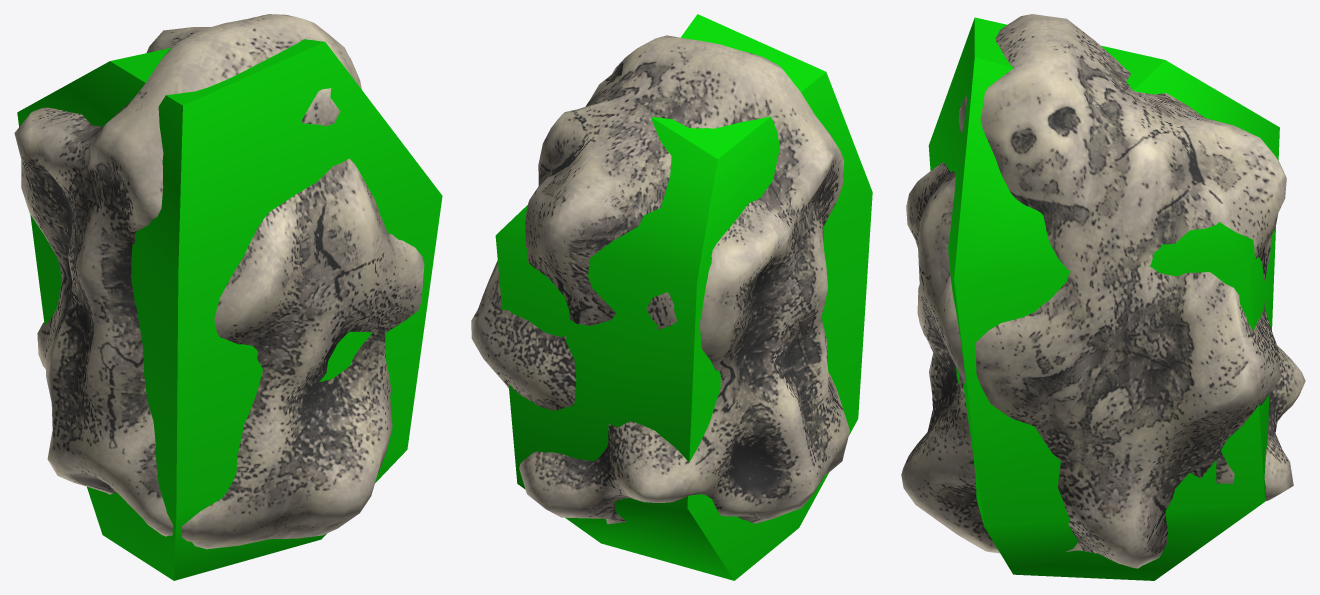
File: Rock_Col.fbx
3 renders of one model, left to right at view 1: azimuth 30°, elevation 25°; view 2: azimuth 150°, elevation 25°; view 3: azimuth 270°, elevation 25°, orthographic. The views are drawn at different scales.
Visible parts, largest first — view 1: rock_LOD0, rock_COL; view 2: rock_LOD0, rock_COL; view 3: rock_LOD0, rock_COL.
Part boxes in pixels (left/top/right/bottom): rock_LOD0: left=14, top=14, right=424, bottom=549; rock_COL: left=17, top=39, right=442, bottom=580; rock_LOD0: left=471, top=35, right=849, bottom=524; rock_COL: left=495, top=14, right=872, bottom=580; rock_LOD0: left=901, top=14, right=1305, bottom=568; rock_COL: left=928, top=17, right=1279, bottom=580.
Size of what is drawn, in the model's own units: 1.83 by 2.89 by 2.
